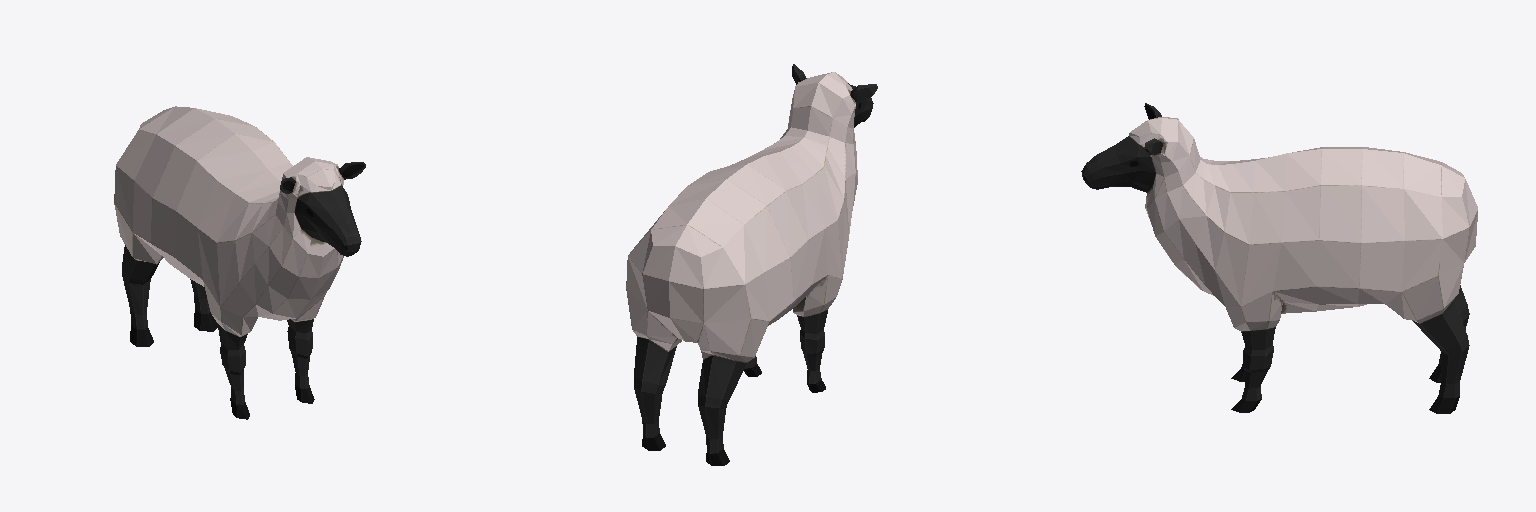
3 renders of one model, left to right at view 1: azimuth 30°, elevation 25°; view 2: azimuth 150°, elevation 25°; view 3: azimuth 270°, elevation 25°, orthographic.
Visible parts, largest first — view 1: Sheep_mesh; view 2: Sheep_mesh; view 3: Sheep_mesh.
Part boxes in pixels (x1,y1,x2,y2): Sheep_mesh: (114,106,365,419); Sheep_mesh: (626,64,877,465); Sheep_mesh: (1081,103,1477,413).
Bounding box in the file's own units: 2.46 × 4.93 × 6.42.
1 materials, 1 textured.